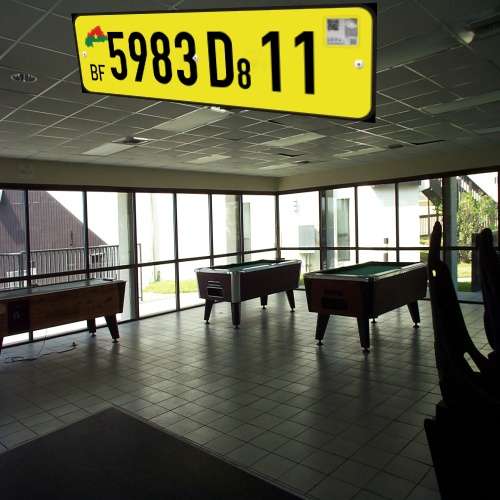plate: (66, 3, 393, 138)
